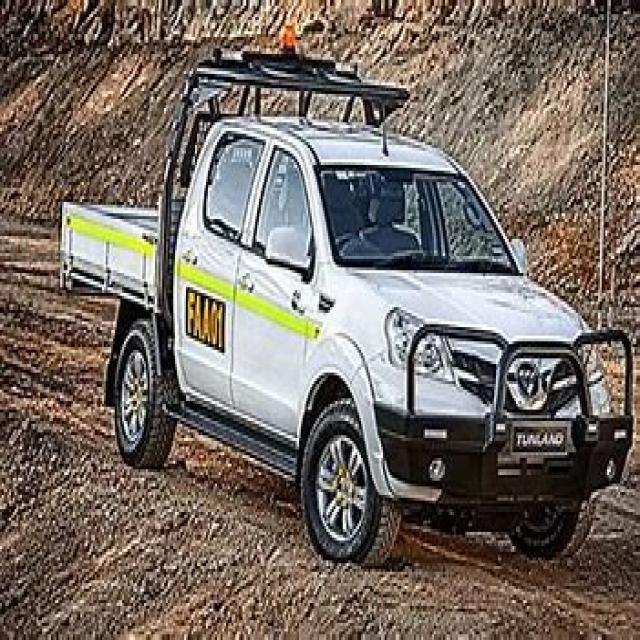light_vehicle: (59, 43, 638, 586)
